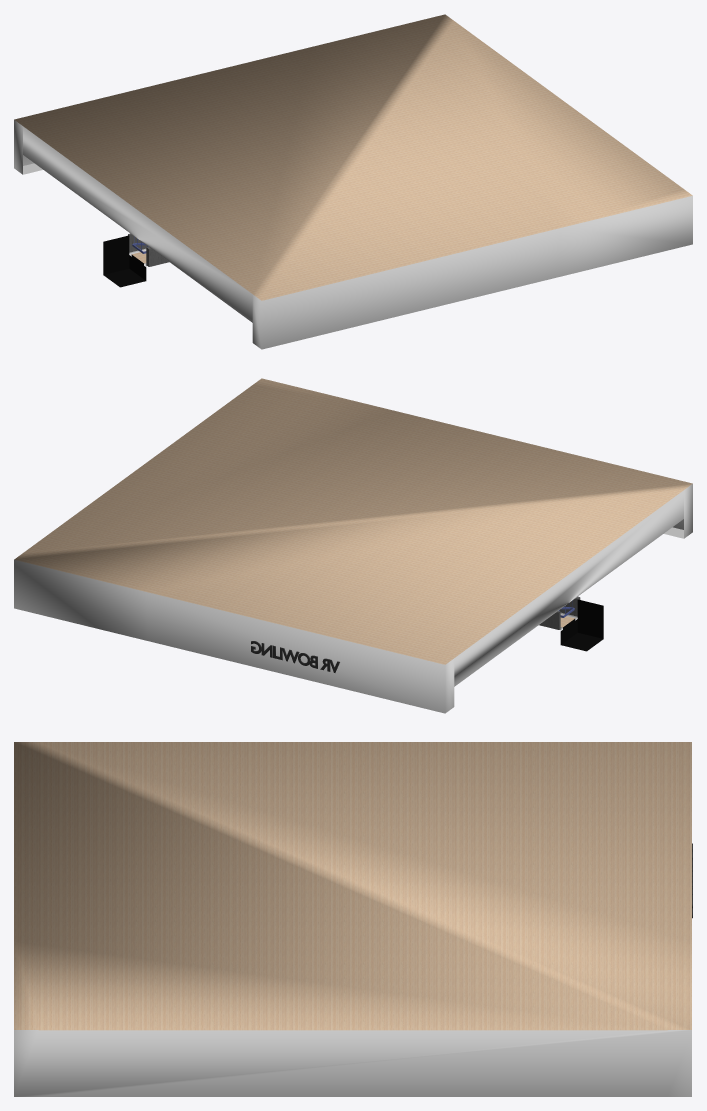
Rendered from Alley.fbx.
The picture shows the model from 3 angles, top to bottom: view 1: azimuth 30°, elevation 25°; view 2: azimuth 150°, elevation 25°; view 3: azimuth 270°, elevation 25°; orthographic projection. The views are drawn at different scales.
Parts seen in each view (by area): view 1: Walls, CatchBox; view 2: Walls, CatchBox, VrBowling; view 3: Walls.
Boxes of the visible parts, <box> form: Walls: <box>14,14,692,349</box>; CatchBox: <box>103,235,146,287</box>; Walls: <box>14,378,692,713</box>; CatchBox: <box>560,599,603,651</box>; VrBowling: <box>251,641,339,672</box>; Walls: <box>14,742,691,1096</box>.
Bounding box in the file's own units: 2947 × 398 × 2768.
